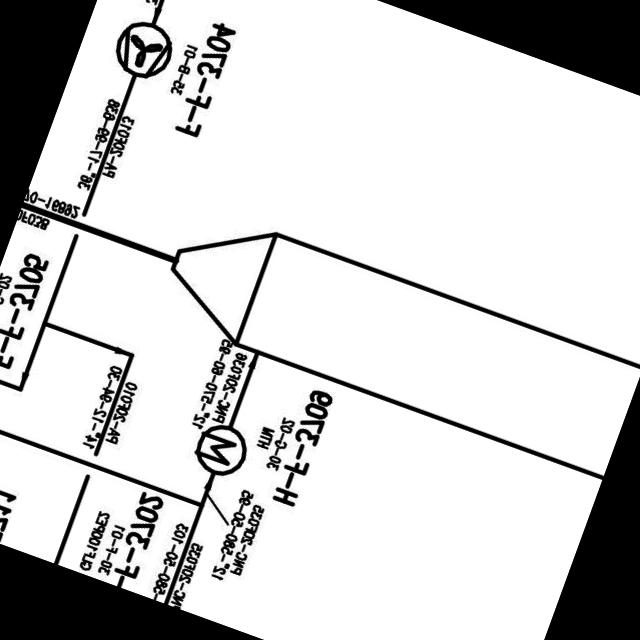F: (107, 12, 183, 90)
HE: (182, 414, 255, 486)
